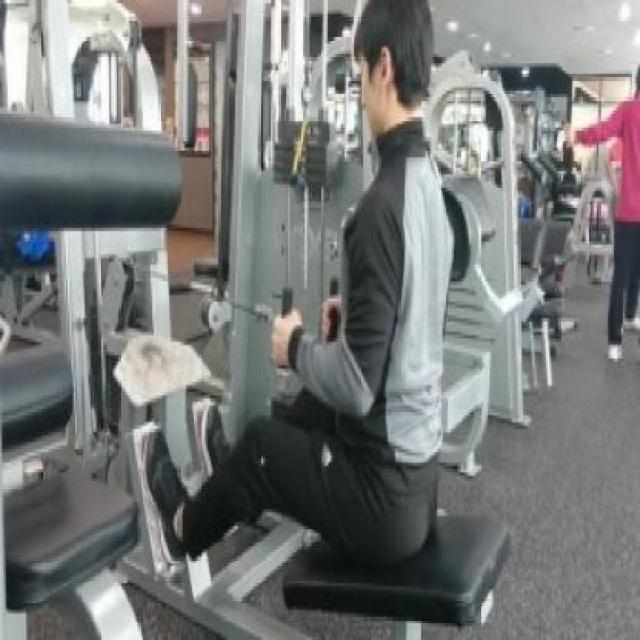Seated Cable Rows: (0, 4, 517, 638)
